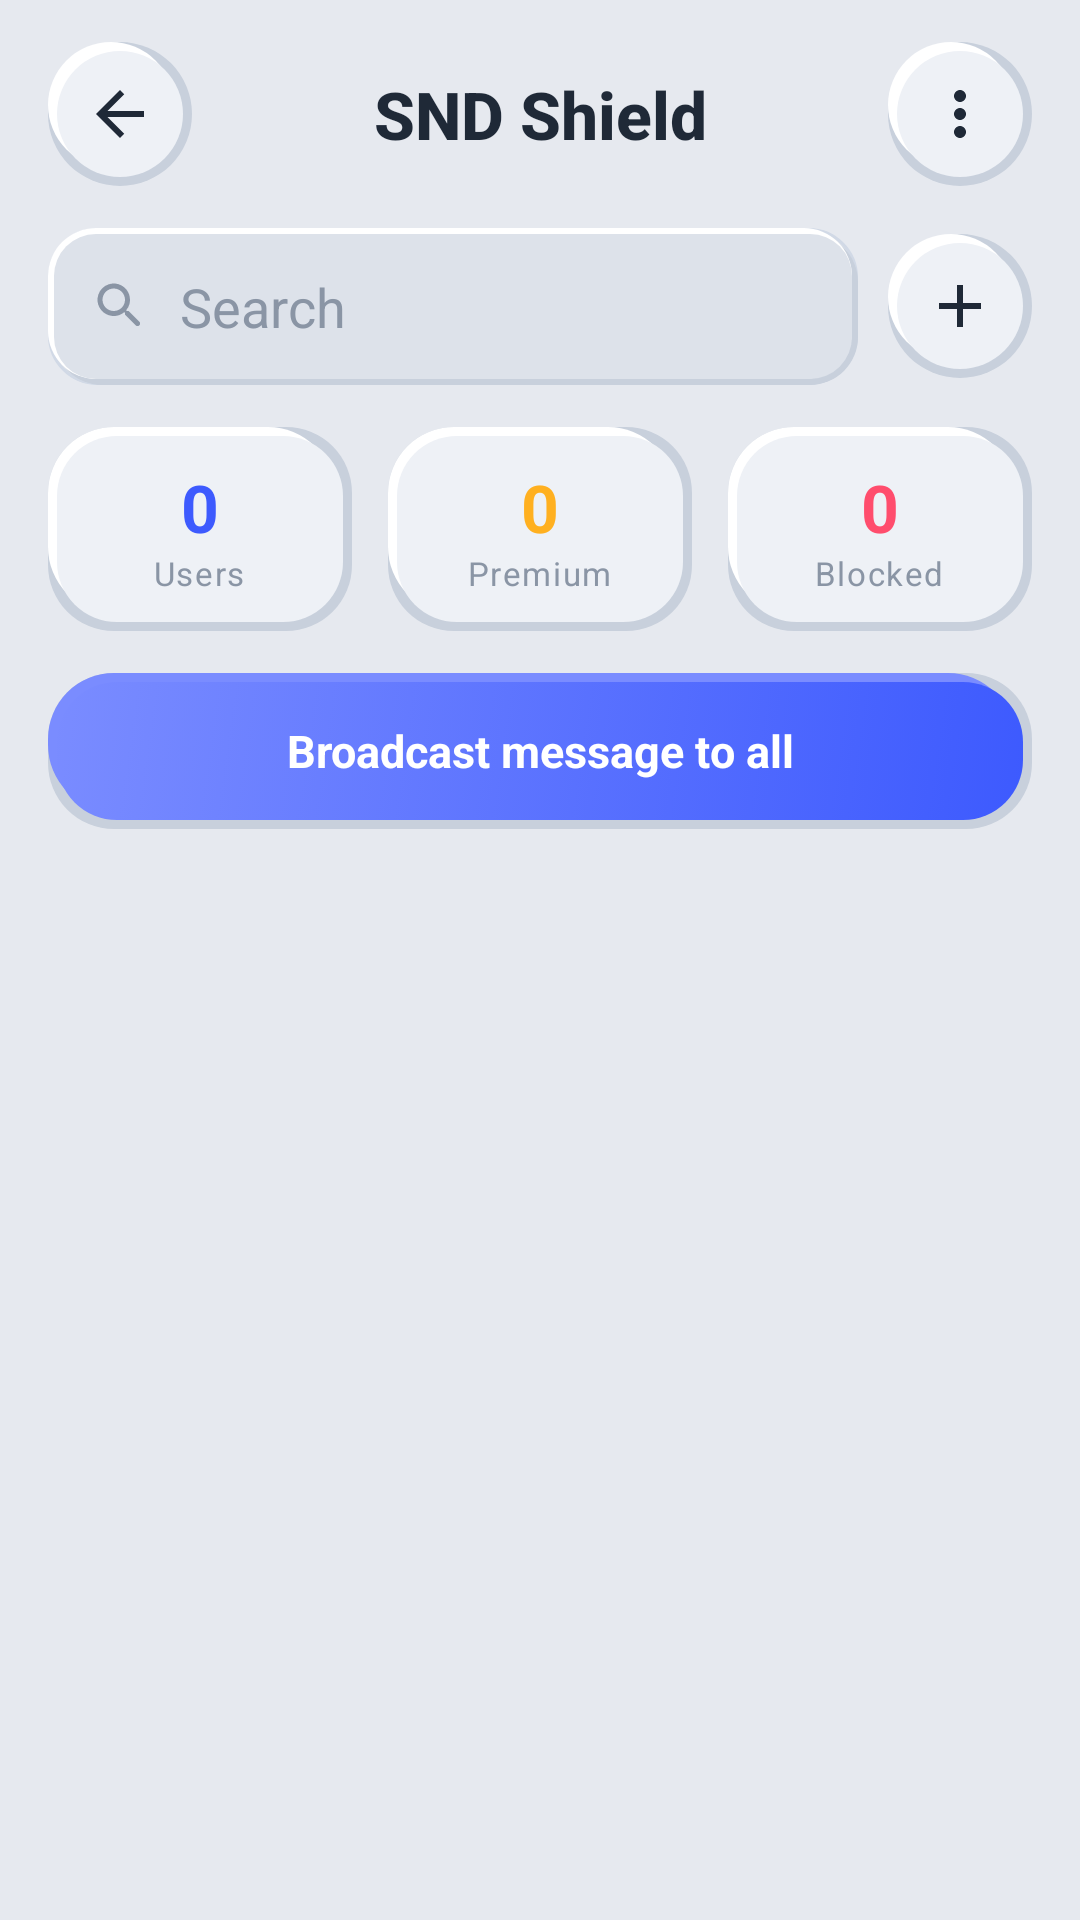

Named icons in this screenshot (1080px x 1920px) and their centers, point (x, y):
Add: point (960, 306)
Back: point (120, 114)
